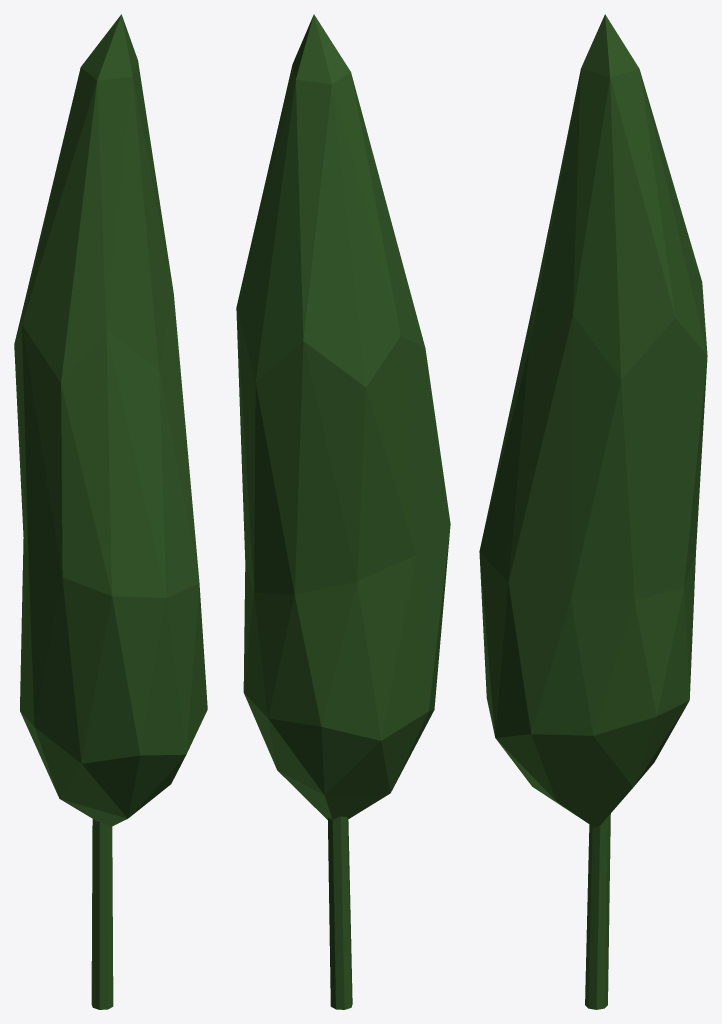
Rendered from Poplar4.FBX.
3 renders of one model, left to right at view 1: azimuth 30°, elevation 25°; view 2: azimuth 150°, elevation 25°; view 3: azimuth 270°, elevation 25°, orthographic. The views are drawn at different scales.
Parts seen in each view (by area): view 1: Poplar4; view 2: Poplar4; view 3: Poplar4.
Part boxes in pixels (<box>): Poplar4: <box>14,14,207,1009</box>; Poplar4: <box>236,14,450,1009</box>; Poplar4: <box>479,14,707,1009</box>.
Size of what is drawn, in the model's own units: 142 by 174 by 844.
